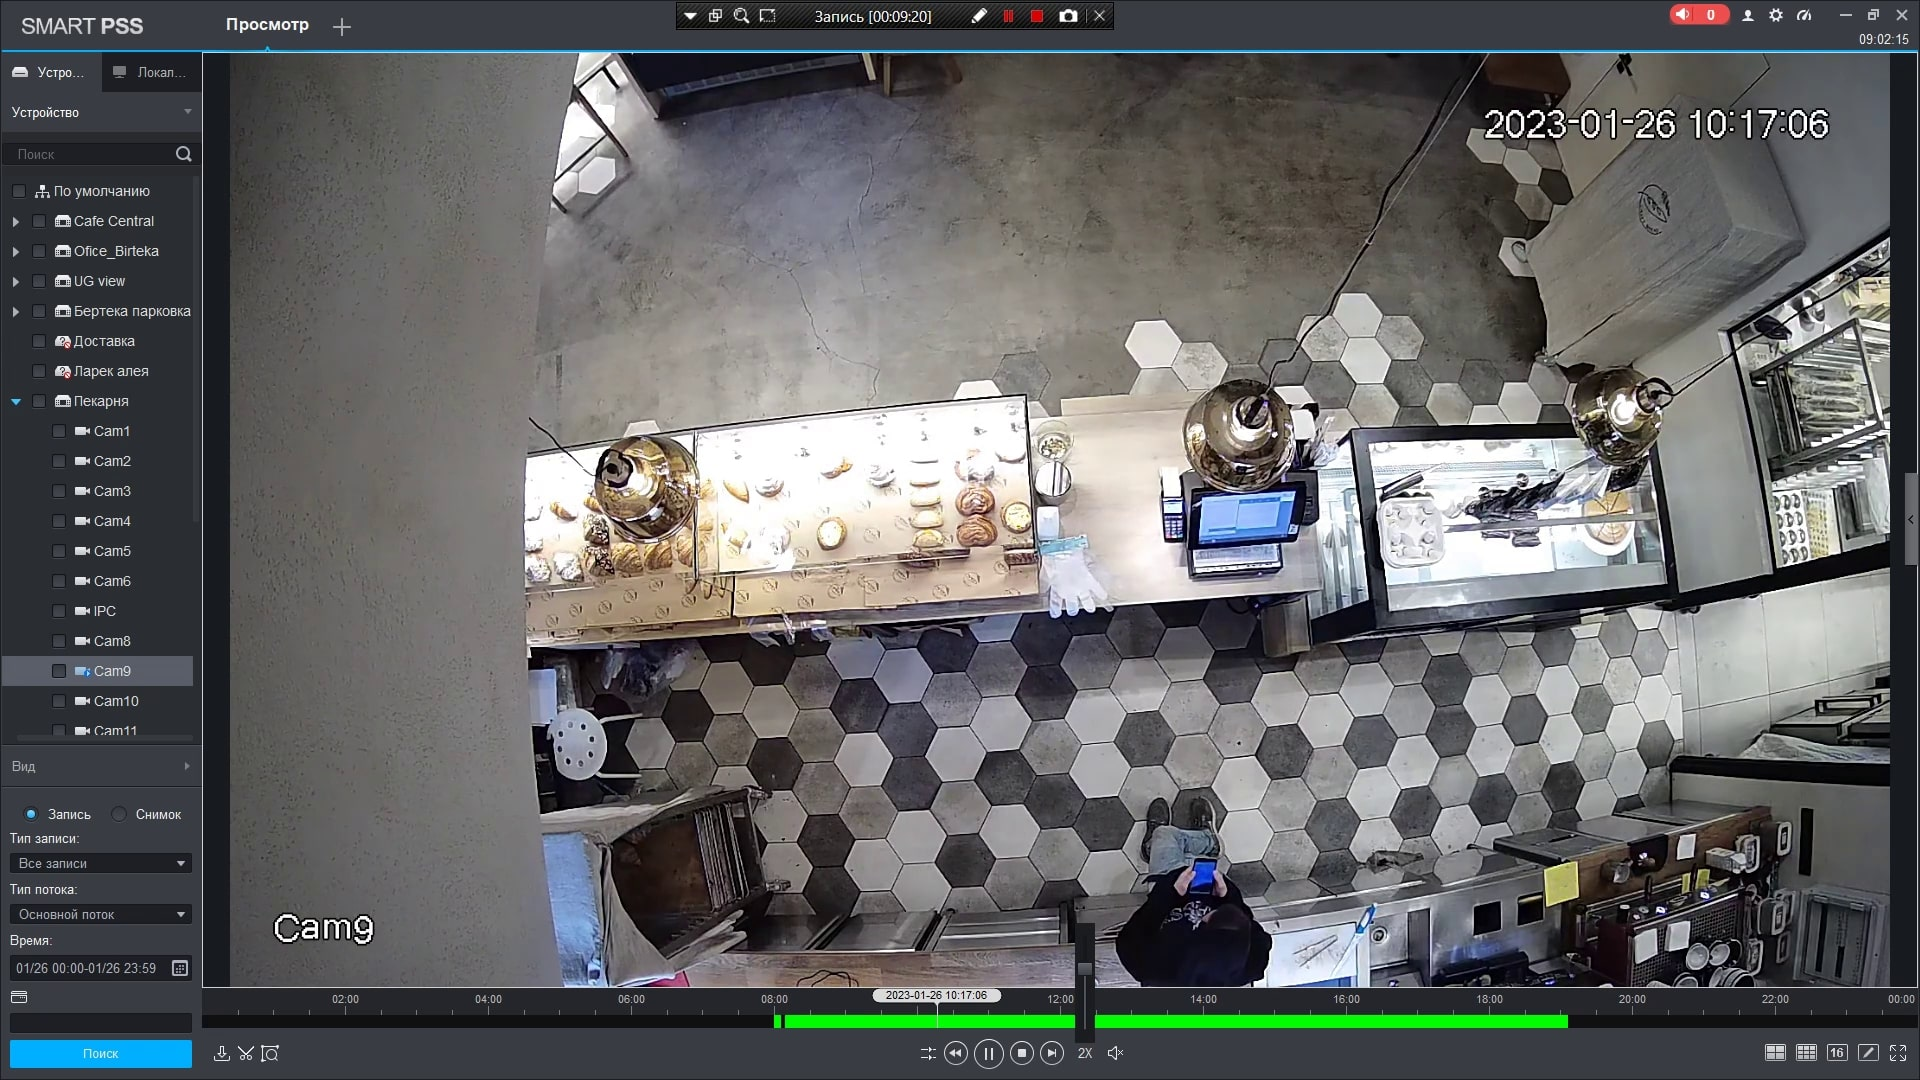barcounter: (534, 421, 1676, 641)
person: (1115, 794, 1278, 987)
